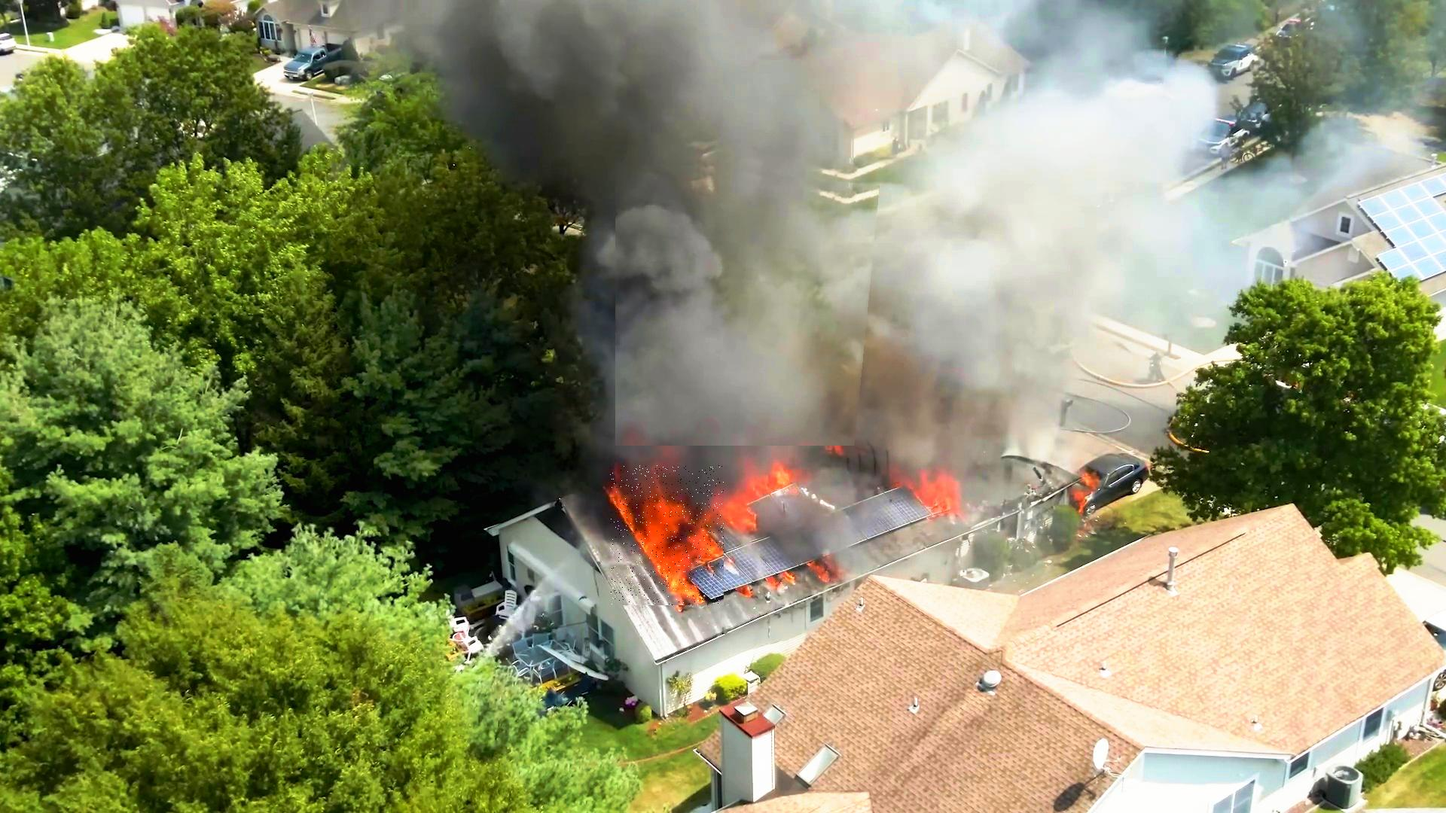fire: (610, 465, 724, 605)
smoke: (616, 158, 882, 446)
